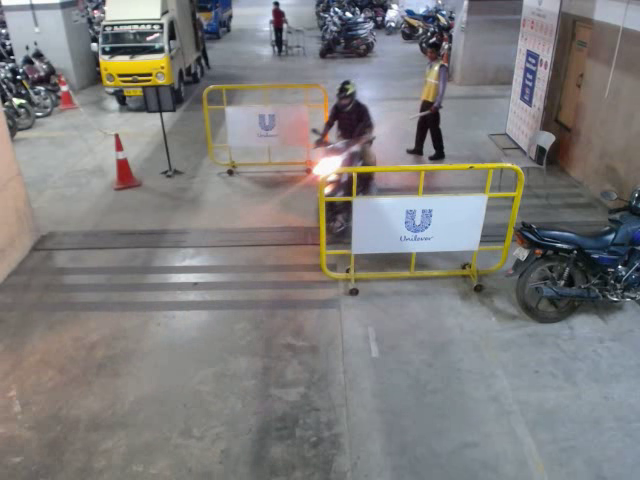with_helmet: (333, 77, 357, 113)
